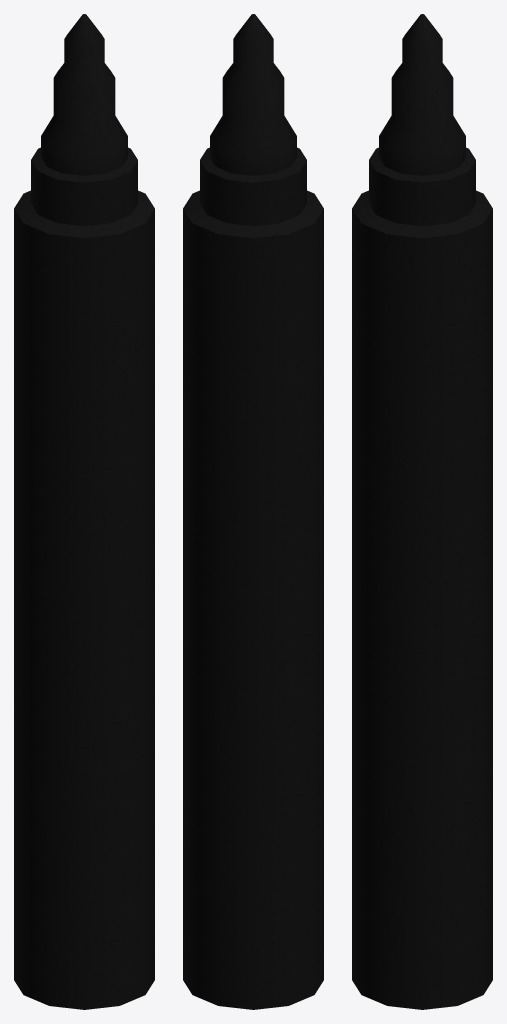
The model's file is black_marker.glb.
The picture shows the model from 3 angles, left to right: view 1: azimuth 30°, elevation 25°; view 2: azimuth 150°, elevation 25°; view 3: azimuth 270°, elevation 25°; orthographic projection.
Parts seen in each view (by area): view 1: black_marker; view 2: black_marker; view 3: black_marker.
Boxes of the visible parts, x1=… form: black_marker: x1=14, y1=14, x2=154, y2=1009; black_marker: x1=183, y1=14, x2=323, y2=1009; black_marker: x1=352, y1=14, x2=492, y2=1009.
Bounding box in the file's own units: 0.0132 × 0.1 × 0.0132.
Materials: 2 (2 with a texture image).
